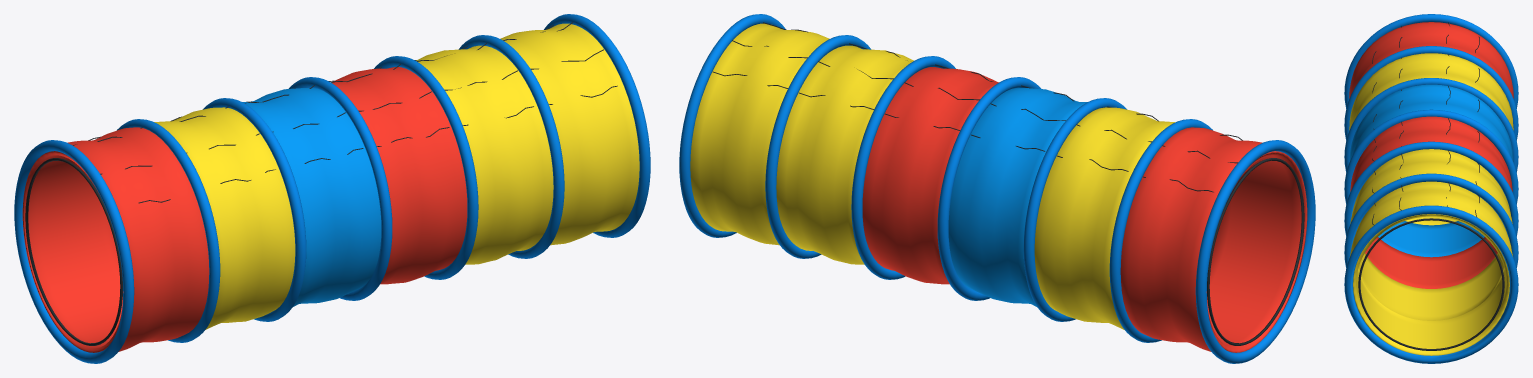
The model's file is Kriechtunnel_3D.glb.
The picture shows the model from 3 angles, left to right: view 1: azimuth 30°, elevation 25°; view 2: azimuth 150°, elevation 25°; view 3: azimuth 270°, elevation 25°; orthographic projection. The views are drawn at different scales.
Visible parts, largest first — view 1: Kriechtunnel_3D__web_yellow_crawl_tunnel_fabric_panels, Kriechtunnel_3D__web_red_crawl_tunnel_fabric_panels, Kriechtunnel_3D__web_bright_blue_crawl_tunnel_hoop_ribs, Kriechtunnel_3D__web_blue_crawl_tunnel_fabric_panels, Kriechtunnel_3D__web_dark_fabric_seam_shadows_on_tunnel; view 2: Kriechtunnel_3D__web_yellow_crawl_tunnel_fabric_panels, Kriechtunnel_3D__web_red_crawl_tunnel_fabric_panels, Kriechtunnel_3D__web_bright_blue_crawl_tunnel_hoop_ribs, Kriechtunnel_3D__web_blue_crawl_tunnel_fabric_panels, Kriechtunnel_3D__web_dark_fabric_seam_shadows_on_tunnel; view 3: Kriechtunnel_3D__web_yellow_crawl_tunnel_fabric_panels, Kriechtunnel_3D__web_bright_blue_crawl_tunnel_hoop_ribs, Kriechtunnel_3D__web_red_crawl_tunnel_fabric_panels, Kriechtunnel_3D__web_blue_crawl_tunnel_fabric_panels, Kriechtunnel_3D__web_dark_fabric_seam_shadows_on_tunnel.
Part boxes in pixels (x1,y1,x2,y2): Kriechtunnel_3D__web_yellow_crawl_tunnel_fabric_panels: [154, 23, 639, 329]; Kriechtunnel_3D__web_red_crawl_tunnel_fabric_panels: [22, 67, 467, 352]; Kriechtunnel_3D__web_bright_blue_crawl_tunnel_hoop_ribs: [14, 14, 650, 363]; Kriechtunnel_3D__web_blue_crawl_tunnel_fabric_panels: [242, 88, 381, 306]; Kriechtunnel_3D__web_dark_fabric_seam_shadows_on_tunnel: [25, 22, 617, 345]; Kriechtunnel_3D__web_yellow_crawl_tunnel_fabric_panels: [690, 23, 1174, 329]; Kriechtunnel_3D__web_red_crawl_tunnel_fabric_panels: [862, 67, 1307, 352]; Kriechtunnel_3D__web_bright_blue_crawl_tunnel_hoop_ribs: [679, 14, 1315, 363]; Kriechtunnel_3D__web_blue_crawl_tunnel_fabric_panels: [948, 87, 1087, 306]; Kriechtunnel_3D__web_dark_fabric_seam_shadows_on_tunnel: [713, 22, 1304, 345]; Kriechtunnel_3D__web_yellow_crawl_tunnel_fabric_panels: [1349, 53, 1513, 355]; Kriechtunnel_3D__web_bright_blue_crawl_tunnel_hoop_ribs: [1344, 14, 1518, 363]; Kriechtunnel_3D__web_red_crawl_tunnel_fabric_panels: [1349, 22, 1513, 288]; Kriechtunnel_3D__web_blue_crawl_tunnel_fabric_panels: [1349, 84, 1513, 257]; Kriechtunnel_3D__web_dark_fabric_seam_shadows_on_tunnel: [1358, 22, 1504, 350].
Size of the model in its own units: 2.46 by 0.93 by 0.93.
